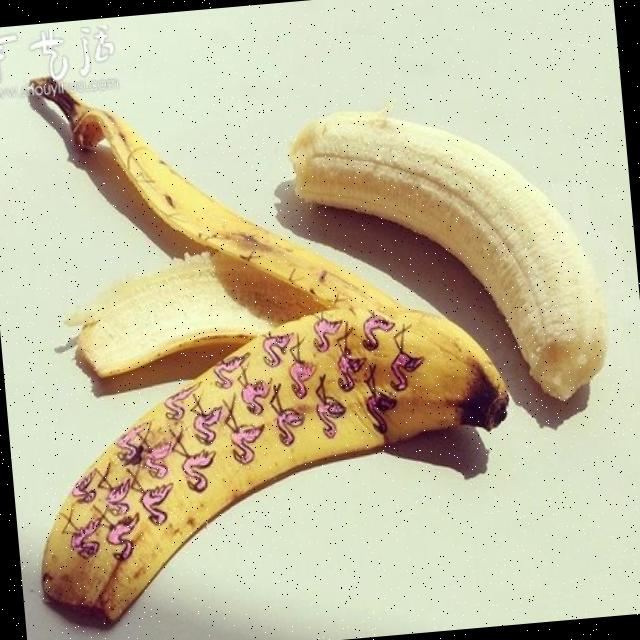banana-peel: (18, 290, 525, 630), (283, 86, 613, 423)
